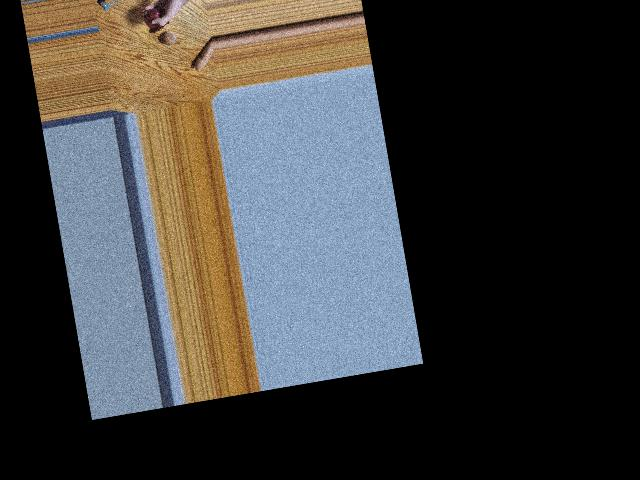onion: (142, 8, 163, 29)
